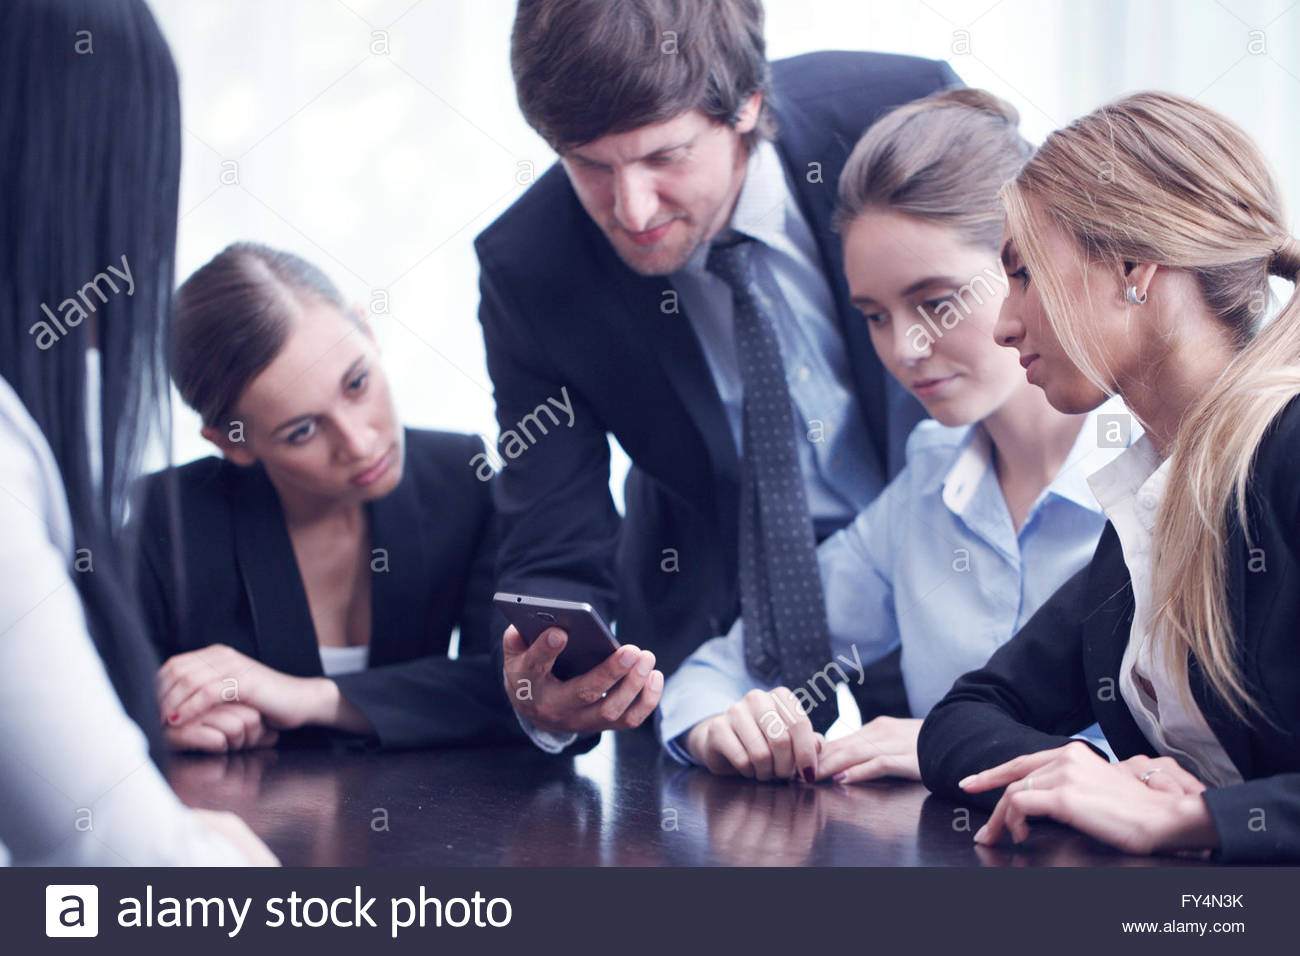smartphone: (490, 589, 664, 724)
